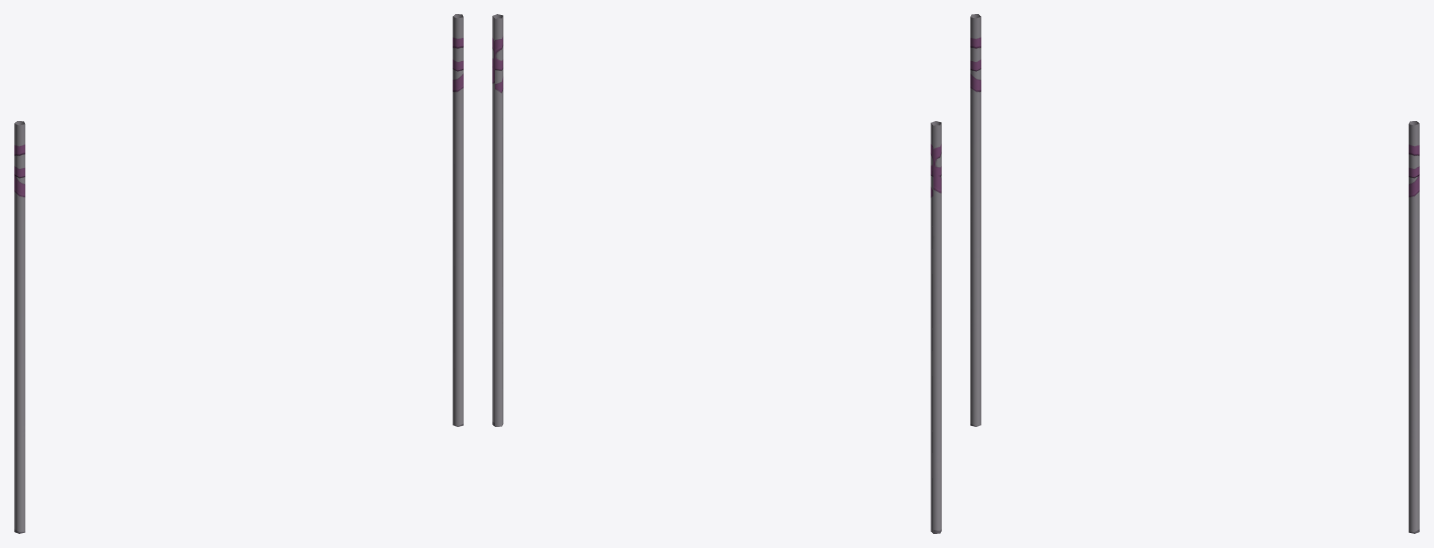
Rendered from SM_CeilingLampRectCABLES.fbx.
3 renders of one model, left to right at view 1: azimuth 30°, elevation 25°; view 2: azimuth 150°, elevation 25°; view 3: azimuth 330°, elevation 25°, orthographic.
Visible parts, largest first — view 1: Lamp1 cables; view 2: Lamp1 cables; view 3: Lamp1 cables.
Part boxes in pixels (x1,y1,x2,y2): Lamp1 cables: [14, 14, 463, 533]; Lamp1 cables: [492, 14, 941, 533]; Lamp1 cables: [970, 14, 1419, 533].
Bounding box in the file's own units: 112 × 2.28 × 97.46.
